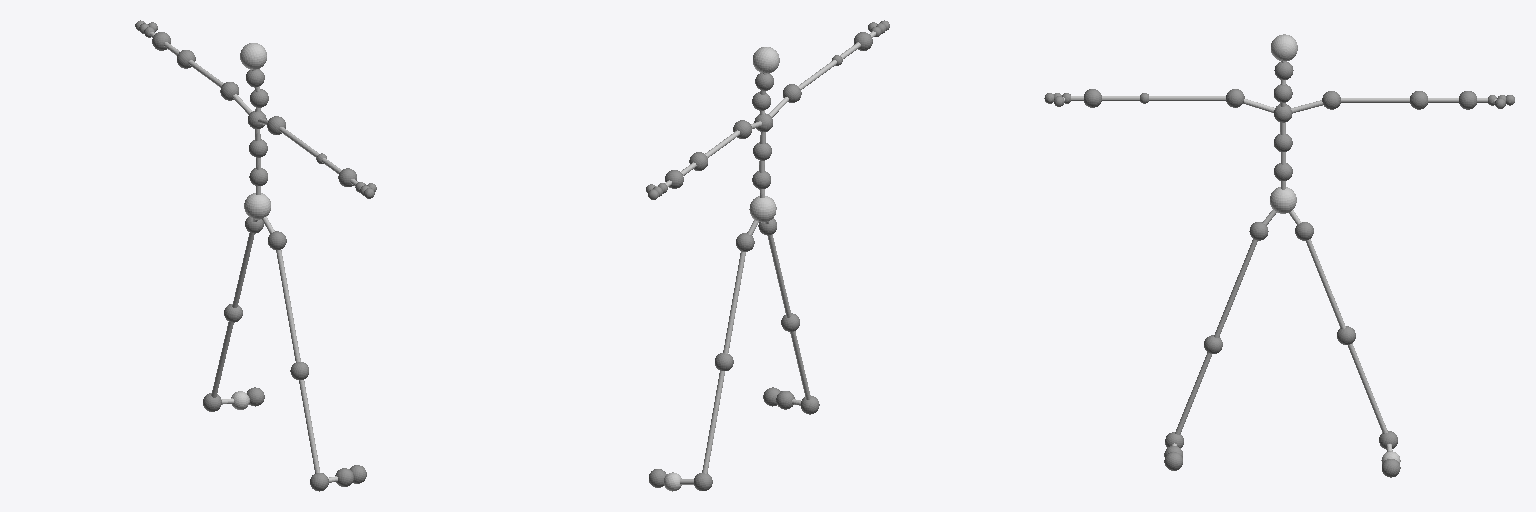
--- Render facts (derived) ---
Views: 3 orthographic renders of the robot side by side, from view 1: azimuth 30°, elevation 25°; view 2: azimuth 150°, elevation 25°; view 3: azimuth 270°, elevation 25°.
Robot: bone — 90 links, 89 joints (56 revolute, 33 fixed); root link root; default pose: all joints at 0.
Links seen in each view (by area): view 1: rfemur, headtop, root; view 2: headtop, root, ltiaba, lfemur; view 3: headtop, rfemur, root.
Link boxes in pixels (<box>): rfemur: <box>276,250,300,362</box>; headtop: <box>240,43,266,69</box>; root: <box>244,193,270,219</box>; headtop: <box>753,47,779,73</box>; root: <box>749,196,776,222</box>; ltiaba: <box>702,371,724,473</box>; lfemur: <box>723,251,745,353</box>; headtop: <box>1271,34,1297,61</box>; rfemur: <box>1214,239,1257,337</box>; root: <box>1270,187,1296,213</box>.
Bounding box of the posed robot: 0.3174 × 1.73 × 1.67 m (x, y, z).
Geometry: primitives only (box / cylinder / sphere), no mesh files.

robot.urdf — bone:
<robot name="bone">
  <mujoco>
    <compiler meshdir="meshes" discardvisual="false"/>
  </mujoco>

  <!-- <link name= "ww">
  </link> -->

  <link name="root">
    <visual>
      <origin xyz="0 0 0" rpy="0 0 0"/>
      <geometry>
        <sphere radius="0.05"/>
      </geometry>
      <material name="dark">
        <color rgba="0.8 0.8 0.8 1"/>
      </material>
    </visual>
  </link>

  <!-- <joint name="wwroot_joint" type="fixed">
    <origin xyz="0.03072072  0.07805085 -0.11095449" rpy="0 0 0"/>
    <parent link="ww"/>
    <child link="lhip"/>
  </joint> -->

  <link name="lhip">
    <visual>
      <origin xyz="-0.01536036  -0.03902543 0.05547724" rpy="2.9188902  -0.61303716  1.57079633"/>
      <geometry>
        <cylinder radius="0.01" length="0.13909213"/>
      </geometry>
      <material name="dark">
        <color rgba="0.8 0.8 0.8 1"/>
      </material>
    </visual>
  </link>

  <joint name="lhipjoint_joint" type="fixed">
    <origin xyz="0.03072072  0.07805085 -0.11095449" rpy="0 0 0"/>
    <parent link="root"/>
    <child link="lhip"/>
  </joint>

  <link name="lhip_sphere">
    <visual>
      <origin xyz="0.0 0.0 0.0" rpy="0 0 0"/>
        <geometry>
          <sphere radius="0.035"/>
        </geometry>
      <material name="dark">
        <color rgba="0.6 0.6 0.6 1"/>
      </material>
    </visual>
  </link>
  <joint name="lhip_sphere_joint" type="fixed">
    <origin xyz="0 0 0" rpy="0 0 0"/>
    <parent link="lhip"/>
    <child link="lhip_sphere"/>
  </joint>

  <link name="rhip">
    <visual>
      <origin xyz="-0.01536039 0.04437166 0.05547731" rpy="2.92864682 0.67462893 1.57079633"/>
      <geometry>
        <cylinder radius="0.01" length="0.14536192652000002"/> 
      </geometry>
      <material name="dark">
        <color rgba="0.8 0.8 0.8 1"/>
      </material>
    </visual>
  </link>
  <joint name="rhipjoint_joint" type="fixed">
    <origin xyz="0.03072079 -0.08874331 -0.11095461" rpy="0 0 0"/>
    <parent link="root"/>
    <child link="rhip"/>
  </joint>

  <link name="rhip_sphere">
    <visual>
      <origin xyz="0.0 0.0 0.0" rpy="0 0 0"/>
        <geometry>
          <sphere radius="0.035"/>
        </geometry>
      <material name="dark">
        <color rgba="0.6 0.6 0.6 1"/>
      </material>
    </visual>
  </link>
  <joint name="rhip_sphere_joint" type="fixed">
    <origin xyz="0 0 0" rpy="0 0 0"/>
    <parent link="rhip"/>
    <child link="rhip_sphere"/>
  </joint>
  <!-- *******************left leg******************* -->

  <link name="lfemur_1">
  </link>
  <link name="lfemur_2">
  </link>
  <link name="lfemur">
    <visual>
      <origin xyz="-5.93592863e-08 -2.24521883e-01  0.00000000e+00" rpy="1.57079633e+00 -0.00000000e+00 -2.64380850e-07"/>
      <geometry>
        <cylinder radius="0.01" length="0.44904362864"/>
      </geometry>
      <material name="dark">
        <color rgba="0.8 0.8 0.8 1"/>
      </material>
    </visual>
  </link>

  <joint name="left_hip_joint_z" type="revolute">
    <origin xyz="0 0 0" rpy="1.57079633 -0.34906585  1.57079633"/>
    <parent link="lhip"/>
    <child link="lfemur_1"/>
    <axis xyz="0 0 1"/>
    <limit lower="-2.79252444" upper="0.34906556" effort="88" velocity="32"/>
  </joint>

  <joint name="left_hip_joint_y" type="revolute">
    <origin xyz="0 0 0" rpy="0 0 0"/>
    <parent link="lfemur_1"/>
    <child link="lfemur_2"/>
    <axis xyz="0 1 0"/>
    <limit lower="-1.22172944" upper="1.22172944" effort="88" velocity="32"/>
  </joint>

  <joint name="left_hip_joint_x" type="revolute">
    <origin xyz="0 0 0" rpy="0 0 0"/>
    <parent link="lfemur_2"/>
    <child link="lfemur"/>
    <axis xyz="1 0 0"/>
    <limit lower="-1.04719667" upper="1.22172944" effort="88" velocity="32"/>
  </joint>

  <link name="ltiaba">
    <visual>
      <origin xyz="-5.95655183e-08 -2.25301940e-01  0.00000000e+00" rpy="1.57079633e+00 -0.00000000e+00 -2.64380850e-07"/>
      <geometry>
        <cylinder radius="0.01" length="0.4506037408"/>
      </geometry>
      <material name="dark">
        <color rgba="0.8 0.8 0.8 1"/>
      </material>
    </visual>
  </link>

  <joint name="left_knee_joint" type="revolute">
    <origin xyz="-1.18718573e-07 -4.49043767e-01  0.00000000e+00" rpy="0 0 0"/>
    <parent link="lfemur"/>
    <child link="ltiaba"/>
    <axis xyz="1 0 0"/>
    <limit lower="-0.17453278" upper="2.967" effort="88" velocity="32"/>
  </joint>

  <link name="ltibia_sphere">
    <visual>
      <origin xyz="0.0 0.0 0.0" rpy="0 0 0"/>
        <geometry>
          <sphere radius="0.035"/>
        </geometry>
      <material name="dark">
        <color rgba="0.6 0.6 0.6 1"/>
      </material>
    </visual>
  </link>
  <joint name="ltibia_sphere_joint" type="fixed">
    <origin xyz="0 0 0" rpy="0 0 0"/>
    <parent link="ltiaba"/>
    <child link="ltibia_sphere"/>
  </joint>

  <link name="lfoot_1">
  </link>
   <link name="lfoot">
    <visual>
      <origin xyz="6.64480645e-09 -6.15325855e-02 -1.33260259e-02" rpy="-2.14448389  1.17017283  2.60484501"/>
      <geometry>
        <cylinder radius="0.01" length="0.1259180974"/>
      </geometry>
      <material name="dark">
        <color rgba="0.8 0.8 0.8 1"/>
      </material>
    </visual>
  </link>

  <joint name="lfoot_joint_z" type="revolute">
    <origin xyz="-1.19131037e-07 -4.50603879e-01  0.00000000e+00" rpy="-1.57079633e+00  1.33142791e-17  0.00000000e+00"/>
    <parent link="ltiaba"/>
    <child link="lfoot_1"/>
    <axis xyz="0 0 1"/>
    <limit lower="-0.7853975" upper="1.570795" effort="88" velocity="32"/>
  </joint>

  <joint name="lfoot_joint_x" type="revolute">
    <origin xyz="0.0 0 0" rpy="0 0 0"/>
    <parent link="lfoot_1"/>
    <child link="lfoot"/>
    <axis xyz="1 0 0"/>
    <limit lower="-1.22172944" upper="0.34906556" effort="88" velocity="32"/>
  </joint>

  <link name="lfoot_sphere">
    <visual>
      <origin xyz="0.0 0.0 0.0" rpy="0 0 0"/>
        <geometry>
          <sphere radius="0.035"/>
        </geometry>
      <material name="dark">
        <color rgba="0.6 0.6 0.6 1"/>
      </material>
    </visual>
  </link>
  <joint name="lfoot_sphere_joint" type="fixed">
    <origin xyz="0 0 0" rpy="0 0 0"/>
    <parent link="lfoot"/>
    <child link="lfoot_sphere"/>
  </joint>

  <link name="ltoe">
    <visual>
      <origin xyz="6.98164928e-16 -3.16444819e-02 -1.42131187e-12" rpy="-1.57079633  1.22173048  3.14159265"/>
      <geometry>
        <cylinder radius="0.01" length="0.06328896388000001"/>
      </geometry>
      <material name="dark">
        <color rgba="0.8 0.8 0.8 1"/>
      </material>
    </visual>
  </link>

  <joint name="ltoe_joint" type="revolute">
    <origin xyz="1.32896129e-08 -1.23065171e-01 -2.66520518e-02" rpy="-1.23259516e-32  8.15264464e-34 -1.54074396e-33"/>
    <parent link="lfoot"/>
    <child link="ltoe"/>
    <axis xyz="1 0 0"/>
    <limit lower="-1.570795" upper="0.34906556" effort="88" velocity="32"/>
  </joint>

  <link name="ltoes_sphere">
    <visual>
      <origin xyz="0.0 0.0 0.0" rpy="0 0 0"/>
        <geometry>
          <sphere radius="0.035"/>
        </geometry>
      <material name="dark">
        <color rgba="0.8 0.8 0.8 1"/>
      </material>
    </visual>
  </link>
  <joint name="ltoes_sphere_joint" type="fixed">
    <origin xyz="0 0 0" rpy="0 0 0"/>
    <parent link="ltoe"/>
    <child link="ltoes_sphere"/>
  </joint>

  <link name="ltoe_top">
    <visual>
      <origin xyz="0.0 0 0" rpy="0 0 0"/>
        <geometry>
          <sphere radius="0.035"/>
        </geometry>
      <material name="dark">
        <color rgba="0.6 0.6 0.6 1"/>
      </material>
    </visual>
  </link>

  <joint name="ltoe_top_joint" type="fixed">
    <origin xyz="1.39632986e-15 -6.32889639e-02 -2.84262374e-12" rpy="0 0 0"/>
    <parent link="ltoe"/>
    <child link="ltoe_top"/>
  </joint>

  <!-- *******************right leg******************* -->

  <link name="rfemur_1">
  </link>
  <link name="rfemur_2">
  </link>
  <link name="rfemur">
    <visual>
      <origin xyz="6.45599279e-08 -2.44192906e-01  0.00000000e+00" rpy="1.57079633e+00 -0.00000000e+00  2.64380850e-07"/>
      <geometry>
        <cylinder radius="0.01" length="0.48838566108000003"/>
      </geometry>
      <material name="dark">
        <color rgba="0.8 0.8 0.8 1"/>
      </material>
    </visual>
  </link>

  <joint name="right_hip_joint_z" type="revolute">
    <origin xyz="0 0 0" rpy="1.57079633 0.34906585 1.57079633"/>
    <parent link="rhip"/>
    <child link="rfemur_1"/>
    <axis xyz="0 0 1"/>
    <limit lower="-2.79252444" upper="0.34906556" effort="88" velocity="32"/>
  </joint>

  <joint name="right_hip_joint_y" type="revolute">
    <origin xyz="0 0 0" rpy="0 0 0"/>
    <parent link="rfemur_1"/>
    <child link="rfemur_2"/>
    <axis xyz="0 1 0"/>
    <limit lower="-1.22172944" upper="1.22172944" effort="88" velocity="32"/>
  </joint>

  <joint name="right_hip_joint_x" type="revolute">
    <origin xyz="0 0 0" rpy="0 0 0"/>
    <parent link="rfemur_2"/>
    <child link="rfemur"/>
    <axis xyz="1 0 0"/>
    <limit lower="-1.22172944" upper="1.04719667" effort="88" velocity="32"/>
  </joint>

  <link name="rtiaba">
    <visual>
      <origin xyz="-2.11832793e-07 -2.08223831e-01  0.00000000e+00" rpy="1.57079633e+00 -0.00000000e+00 -1.01733213e-06"/>
      <geometry>
        <cylinder radius="0.01" length="0.41644778308"/>
      </geometry>
      <material name="dark">
        <color rgba="0.8 0.8 0.8 1"/>
      </material>
    </visual>
  </link>

  <joint name="right_knee_joint" type="revolute">
    <origin xyz="1.29119856e-07 -4.88385811e-01  0.00000000e+00" rpy="0 0 0"/>
    <parent link="rfemur"/>
    <child link="rtiaba"/>
    <axis xyz="1 0 0"/>
    <limit lower="-0.17453278" upper="2.96705722" effort="88" velocity="32"/>
  </joint>

  <link name="rtiaba_sphere">
    <visual>
      <origin xyz="0.0 0.0 0.0" rpy="0 0 0"/>
        <geometry>
          <sphere radius="0.035"/>
        </geometry>
      <material name="dark">
        <color rgba="0.6 0.6 0.6 1"/>
      </material>
    </visual>
  </link>
  <joint name="rtiaba_sphere_joint" type="fixed">
    <origin xyz="0 0 0" rpy="0 0 0"/>
    <parent link="rtiaba"/>
    <child link="rtiaba_sphere"/>
  </joint>

  <link name="rfoot_1">
  </link>
   <link name="rfoot">
    <visual>
      <origin xyz="-0.00020512 -0.05268696 -0.00312934" rpy="1.74309564 1.21768444 0.15796599"/>
      <geometry>
        <cylinder radius="0.01" length="0.10556043992"/>
      </geometry>
      <material name="dark">
        <color rgba="0.8 0.8 0.8 1"/>
      </material>
    </visual>
  </link>

  <joint name="rfoot_joint_z" type="revolute">
    <origin xyz="-4.23665586e-07 -4.16447662e-01  0.00000000e+00" rpy="-1.57079633e+00 -1.33142791e-17  0.00000000e+00"/>
    <parent link="rtiaba"/>
    <child link="rfoot_1"/>
    <axis xyz="0 0 1"/>
    <limit lower="-0.7853975" upper="1.570795" effort="88" velocity="32"/>
  </joint>

  <joint name="rfoot_joint_x" type="revolute">
    <origin xyz="0.0 0 0" rpy="0 0 0"/>
    <parent link="rfoot_1"/>
    <child link="rfoot"/>
    <axis xyz="1 0 0"/>
    <limit lower="-0.34906556" upper="1.22172944" effort="88" velocity="32"/>
  </joint>

  <link name="rfoot_sphere">
    <visual>
      <origin xyz="0.0 0.0 0.0" rpy="0 0 0"/>
        <geometry>
          <sphere radius="0.035"/>
        </geometry>
      <material name="dark">
        <color rgba="0.6 0.6 0.6 1"/>
      </material>
    </visual>
  </link>
  <joint name="rfoot_sphere_joint" type="fixed">
    <origin xyz="0 0 0" rpy="0 0 0"/>
    <parent link="rfoot"/>
    <child link="rfoot_sphere"/>
  </joint>

  <link name="rtoe">
    <visual>
      <origin xyz="4.14994319e-16 -2.68551521e-02 -1.20706702e-12" rpy="1.57079633e+00 1.22173048e+00 1.23507191e-10"/>
      <geometry>
        <cylinder radius="0.01" length="0.053710304192"/>
      </geometry>
      <material name="dark">
        <color rgba="0.8 0.8 0.8 1"/>
      </material>
    </visual>
  </link>

  <joint name="rtoe_joint" type="revolute">
    <origin xyz="-0.00041025 -0.10537391 -0.00625868" rpy="-1.23259516e-32 -8.15264464e-34  1.54074396e-33"/>
    <parent link="rfoot"/>
    <child link="rtoe"/>
    <axis xyz="1 0 0"/>
    <limit lower="-1.570795" upper="0.34906556" effort="88" velocity="32"/>
  </joint>

   <link name="rtoes_sphere">
    <visual>
      <origin xyz="0.0 0.0 0.0" rpy="0 0 0"/>
        <geometry>
          <sphere radius="0.035"/>
        </geometry>
      <material name="dark">
        <color rgba="0.6 0.6 0.6 1"/>
      </material>
    </visual>
  </link>
  <joint name="rtoes_sphere_joint" type="fixed">
    <origin xyz="0 0 0" rpy="0 0 0"/>
    <parent link="rtoe"/>
    <child link="rtoes_sphere"/>
  </joint>

  <link name="rtoe_top">
    <visual>
      <origin xyz="0.0 0 0" rpy="0 0 0"/>
        <geometry>
          <sphere radius="0.035"/>
        </geometry>
      <material name="dark">
        <color rgba="0.6 0.6 0.6 1"/>
      </material>
    </visual>
  </link>

  <joint name="rtoe_top_joint" type="fixed">
    <origin xyz="8.29988637e-16 -5.37103042e-02 -2.41413405e-12" rpy="0 0 0"/>
    <parent link="rtoe"/>
    <child link="rtoe_top"/>
    <axis xyz="1 0 0"/>
    <limit lower="-2.5307" upper="2.8798" effort="88" velocity="32"/>
  </joint>

  <!-- 腰部 -->
  <link name="lowerback_1">
  </link>
  <link name="lowerback_2">
  </link>
  <link name="lowerback">
    <visual>
      <origin xyz="0.00018868 0.05852319 0.00256924" rpy="1.52692357 -0.   3.13836866"/>
        <geometry>
          <cylinder radius="0.01" length="0.11715968192000001"/>
        </geometry>
      <material name="dark">
        <color rgba="0.8 0.8 0.8 1"/>
      </material>
    </visual>
  </link>

  <joint name="lowerback_joint_z" type="revolute">
    <origin xyz="0 0 0" rpy="1.57079633 -0.  1.57079633"/>
    <parent link="root"/>
    <child link="lowerback_1"/>
    <axis xyz="0 0 1"/>
    <limit lower="-0.34906556" upper="0.7853975" effort="88" velocity="32"/>
  </joint>

  <joint name="lowerback_joint_y" type="revolute">
    <origin xyz="0 0 0" rpy="0 0 0"/>
    <parent link="lowerback_1"/>
    <child link="lowerback_2"/>
    <axis xyz="0 1 0"/>
    <limit lower="-0.52359833" upper="0.52359833" effort="88" velocity="32"/>
  </joint>

  <joint name="lowerback_joint_x" type="revolute">
    <origin xyz="0 0 0" rpy="0 0 0"/>
    <parent link="lowerback_2"/>
    <child link="lowerback"/>
    <axis xyz="1 0 0"/>
    <limit lower="-0.52359833" upper="0.52359833" effort="88" velocity="32"/>
  </joint>

  <link name="upperback_1">
  </link>
  <link name="upperback_2">
  </link>
  <link name="upperback">
    <visual>
      <origin xyz="-0.00018739  0.05819312 -0.00133533" rpy="1.59373863 -0.     -3.13837248"/>
        <geometry>
          <cylinder radius="0.01" length="0.11641744332000001"/>
        </geometry>
      <material name="dark">
        <color rgba="0.8 0.8 0.8 1"/>
      </material>
    </visual>
  </link>

  <joint name="upperback_joint_z" type="revolute">
    <origin xyz="0.00037736 0.11704639 0.00513847" rpy="0 0 0"/>
    <parent link="lowerback"/>
    <child link="upperback_1"/>
    <axis xyz="0 0 1"/>
    <limit lower="-0.34906556" upper="0.7853975" effort="88" velocity="32"/>
  </joint>

  <joint name="upperback_joint_y" type="revolute">
    <origin xyz="0 0 0" rpy="0 0 0"/>
    <parent link="upperback_1"/>
    <child link="upperback_2"/>
    <axis xyz="0 1 0"/>
    <limit lower="-0.52359833" upper="0.52359833" effort="88" velocity="32"/>
  </joint>

  <joint name="upperback_joint_x" type="revolute">
    <origin xyz="0 0 0" rpy="0 0 0"/>
    <parent link="upperback_2"/>
    <child link="upperback"/>
    <axis xyz="1 0 0"/>
    <limit lower="-0.52359833" upper="0.52359833" effort="88" velocity="32"/>
  </joint>

  <link name="upperback_sphere">
    <visual>
      <origin xyz="0.0 0.0 0.0" rpy="0 0 0"/>
        <geometry>
          <sphere radius="0.035"/>
        </geometry>
      <material name="dark">
        <color rgba="0.6 0.6 0.6 1"/>
      </material>
    </visual>
  </link>
  <joint name="upperback_sphere_joint" type="fixed">
    <origin xyz="0 0 0" rpy="0 0 0"/>
    <parent link="upperback"/>
    <child link="upperback_sphere"/>
  </joint>

  <link name="thorax_1">
  </link>
  <link name="thorax_2">
  </link>
  <link name="thorax">
    <visual>
      <origin xyz="-0.00031399  0.05835144 -0.00265145" rpy="1.61620372 -0.         -3.13621171"/>
        <geometry>
          <cylinder radius="0.01" length="0.116824969"/>
        </geometry>
      <material name="dark">
        <color rgba="0.8 0.8 0.8 1"/>
      </material>
    </visual>
  </link>

  <joint name="thorax_joint_z" type="revolute">
    <origin xyz="-0.00037479  0.11638624 -0.00267065" rpy="0 0 0"/>
    <parent link="upperback"/>
    <child link="thorax_1"/>
    <axis xyz="0 0 1"/>
    <limit lower="-0.34906556" upper="0.7853975" effort="88" velocity="32"/>
  </joint>

  <joint name="thorax_joint_y" type="revolute">
    <origin xyz="0 0 0" rpy="0 0 0"/>
    <parent link="thorax_1"/>
    <child link="thorax_2"/>
    <axis xyz="0 1 0"/>
    <limit lower="-0.52359833" upper="0.52359833" effort="88" velocity="32"/>
  </joint>

  <joint name="thorax_joint_x" type="revolute">
    <origin xyz="0 0 0" rpy="0 0 0"/>
    <parent link="thorax_2"/>
    <child link="thorax"/>
    <axis xyz="1 0 0"/>
    <limit lower="-0.52359833" upper="0.52359833" effort="88" velocity="32"/>
  </joint>

  <link name="thorax_sphere">
    <visual>
      <origin xyz="0.0 0.0 0.0" rpy="0 0 0"/>
        <geometry>
          <sphere radius="0.035"/>
        </geometry>
      <material name="dark">
        <color rgba="0.6 0.6 0.6 1"/>
      </material>
    </visual>
  </link>
  <joint name="thorax_sphere_joint" type="fixed">
    <origin xyz="0 0 0" rpy="0 0 0"/>
    <parent link="thorax"/>
    <child link="thorax_sphere"/>
  </joint>

  <link name="lowerneck_1">
  </link>
  <link name="lowerneck_2">
  </link>
  <link name="lowerneck">
    <visual>
      <origin xyz="-5.79107804e-06  4.23182475e-02  4.61289760e-03" rpy="1.46222008 -0.         -3.14145581"/>
        <geometry>
          <cylinder radius="0.01" length="0.08513787184"/>
        </geometry>
      <material name="dark">
        <color rgba="0.8 0.8 0.8 1"/>
      </material>
    </visual>
  </link>

  <joint name="lowerneck_joint_z" type="revolute">
    <origin xyz="-0.00062798  0.11670289 -0.0053029 " rpy="0 0 0"/>
    <parent link="thorax"/>
    <child link="lowerneck_1"/>
    <axis xyz="0 0 1"/>
    <limit lower="-0.34906556" upper="0.7853975" effort="88" velocity="32"/>
  </joint>

  <joint name="lowerneck_joint_y" type="revolute">
    <origin xyz="0 0 0" rpy="0 0 0"/>
    <parent link="lowerneck_1"/>
    <child link="lowerneck_2"/>
    <axis xyz="0 1 0"/>
    <limit lower="-0.52359833" upper="0.52359833" effort="88" velocity="32"/>
  </joint>

  <joint name="lowerneck_joint_x" type="revolute">
    <origin xyz="0 0 0" rpy="0 0 0"/>
    <parent link="lowerneck_2"/>
    <child link="lowerneck"/>
    <axis xyz="1 0 0"/>
    <limit lower="-0.52359833" upper="0.52359833" effort="88" velocity="32"/>
  </joint>

  <link name="lowerneck_sphere">
    <visual>
      <origin xyz="0.0 0.0 0.0" rpy="0 0 0"/>
        <geometry>
          <sphere radius="0.035"/>
        </geometry>
      <material name="dark">
        <color rgba="0.6 0.6 0.6 1"/>
      </material>
    </visual>
  </link>
  <joint name="lowerneck_sphere_joint" type="fixed">
    <origin xyz="0 0 0" rpy="0 0 0"/>
    <parent link="lowerneck"/>
    <child link="lowerneck_sphere"/>
  </joint>

  <link name="upperneck_1">
  </link>
  <link name="upperneck_2">
  </link>
  <link name="upperneck">
    <visual>
      <origin xyz="0.00171578  0.04249297 -0.0075359" rpy="1.74617594 -0.  3.10123664"/>
        <geometry>
          <cylinder radius="0.01" length="0.08638020428"/>
        </geometry>
      <material name="dark">
        <color rgba="0.8 0.8 0.8 1"/>
      </material>
    </visual>
  </link>

  <joint name="upperneck_joint_z" type="revolute">
    <origin xyz="-1.15821561e-05  8.46364949e-02  9.22579521e-03" rpy="0 0 0"/>
    <parent link="lowerneck"/>
    <child link="upperneck_1"/>
    <axis xyz="0 0 1"/>
    <limit lower="-0.34906556" upper="0.7853975" effort="88" velocity="32"/>
  </joint>

  <joint name="upperneck_joint_y" type="revolute">
    <origin xyz="0 0 0" rpy="0 0 0"/>
    <parent link="upperneck_1"/>
    <child link="upperneck_2"/>
    <axis xyz="0 1 0"/>
    <limit lower="-0.52359833" upper="0.52359833" effort="88" velocity="32"/>
  </joint>

  <joint name="upperneck_joint_x" type="revolute">
    <origin xyz="0 0 0" rpy="0 0 0"/>
    <parent link="upperneck_2"/>
    <child link="upperneck"/>
    <axis xyz="1 0 0"/>
    <limit lower="-0.52359833" upper="0.52359833" effort="88" velocity="32"/>
  </joint>

  <link name="upperneck_sphere">
    <visual>
      <origin xyz="0.0 0.0 0.0" rpy="0 0 0"/>
        <geometry>
          <sphere radius="0.035"/>
        </geometry>
      <material name="dark">
        <color rgba="0.6 0.6 0.6 1"/>
      </material>
    </visual>
  </link>
  <joint name="upperneck_sphere_joint" type="fixed">
    <origin xyz="0 0 0" rpy="0 0 0"/>
    <parent link="upperneck"/>
    <child link="upperneck_sphere"/>
  </joint>

  <link name="head_1">
  </link>
  <link name="head_2">
  </link>
  <link name="head">
    <visual>
      <origin xyz="0.00048713  0.04415899 -0.00334543" rpy="1.64640617 -0.   3.13056181"/>
        <geometry>
          <cylinder radius="0.01" length="0.08857644032"/>
        </geometry>
      <material name="dark">
        <color rgba="0.8 0.8 0.8 1"/>
      </material>
    </visual>
  </link>

  <joint name="head_joint_z" type="revolute">
    <origin xyz="0.00343156  0.08498594 -0.01507179" rpy="0 0 0"/>
    <parent link="upperneck"/>
    <child link="head_1"/>
    <axis xyz="0 0 1"/>
    <limit lower="-0.34906556" upper="0.7853975" effort="88" velocity="32"/>
  </joint>

  <joint name="head_joint_y" type="revolute">
    <origin xyz="0 0 0" rpy="0 0 0"/>
    <parent link="head_1"/>
    <child link="head_2"/>
    <axis xyz="0 1 0"/>
    <limit lower="-0.52359833" upper="0.52359833" effort="88" velocity="32"/>
  </joint>

  <joint name="head_joint_x" type="revolute">
    <origin xyz="0 0 0" rpy="0 0 0"/>
    <parent link="head_2"/>
    <child link="head"/>
    <axis xyz="1 0 0"/>
    <limit lower="-0.52359833" upper="0.52359833" effort="88" velocity="32"/>
  </joint>

  <link name="head_sphere">
    <visual>
      <origin xyz="0.0 0.0 0.0" rpy="0 0 0"/>
        <geometry>
          <sphere radius="0.035"/>
        </geometry>
      <material name="dark">
        <color rgba="0.6 0.6 0.6 1"/>
      </material>
    </visual>
  </link>
  <joint name="head_sphere_joint" type="fixed">
    <origin xyz="0 0 0" rpy="0 0 0"/>
    <parent link="head"/>
    <child link="head_sphere"/>
  </joint>

  <link name="headtop">
    <visual>
      <origin xyz="0.0 0 0.0" rpy="0 0 0"/>
        <geometry>
          <sphere radius="0.05"/>
        </geometry>
      <material name="dark">
        <color rgba="0.8 0.8 0.8 1"/>
      </material>
    </visual>
  </link>
  <joint name="headtop_joint_x" type="fixed">
    <origin xyz="0.00097426  0.08831797 -0.00669087" rpy="0 0 0"/>
    <parent link="head"/>
    <child link="headtop"/>
    <axis xyz="1 0 0"/>
    <limit lower="-2.5307" upper="2.8798" effort="88" velocity="32"/>
  </joint>

  <!-- ***********************left arm************************ -->

  <link name="lclavicle_1">
  </link>
  <link name="lclavicle">
    <visual>
      <origin xyz="0.08889745  0.023405   -0.00634644" rpy="1.63972489 -0.          1.82823509"/>
        <geometry>
          <cylinder radius="0.01" length="0.18429135332"/>
        </geometry>
      <material name="dark">
        <color rgba="0.8 0.8 0.8 1"/>
      </material>
    </visual>
  </link>

  <joint name="lclavicle_joint_z" type="revolute">
    <origin xyz="0 0 0" rpy="0 0 0"/>
    <parent link="lowerneck"/>
    <child link="lclavicle_1"/>
    <axis xyz="0 0 1"/>
    <limit lower="-0.34906556" upper="0.17453278" effort="88" velocity="32"/>
  </joint>

  <joint name="lclavicle_joint_y" type="revolute">
    <origin xyz="0 0 0" rpy="0 0 0"/>
    <parent link="lclavicle_1"/>
    <child link="lclavicle"/>
    <axis xyz="0 1 0"/>
    <limit lower=" 0.0" upper="0.34906556" effort="88" velocity="32"/>
  </joint>


  <link name="lhumerus_1">
  </link>
  <link name="lhumerus_2">
  </link>
  <link name="lhumerus">
    <visual>
      <origin xyz="6.23500815e-12 -1.60367564e-01  3.59976400e-12" rpy="-1.57079633  0.52359878 -3.14159265"/>
        <geometry>
          <cylinder radius="0.01" length="0.32073512784"/>
        </geometry>
      <material name="dark">
        <color rgba="0.8 0.8 0.8 1"/>
      </material>
    </visual>
  </link>

  <joint name="lshoulder_joint_z" type="revolute">
    <origin xyz="0.1777949   0.04681  -0.01269288" rpy="3.14159265 -0.52359878 -1.57079633 "/>
    <parent link="lclavicle"/>
    <child link="lhumerus_1"/>
    <axis xyz="0 0 1"/>
    <limit lower="-1.04719667" upper="1.570795" effort="88" velocity="32"/>
  </joint>

  <joint name="lshoulder_joint_y" type="revolute">
    <origin xyz="0 0 0" rpy="0 0 0"/>
    <parent link="lhumerus_1"/>
    <child link="lhumerus_2"/>
    <axis xyz="0 1 0"/>
    <limit lower="-1.570795" upper="1.570795" effort="88" velocity="32"/>
  </joint>

  <joint name="lshoulder_joint_x" type="revolute">
    <origin xyz="0 0 0" rpy="0 0 0"/>
    <parent link="lhumerus_2"/>
    <child link="lhumerus"/>
    <axis xyz="1 0 0"/>
    <limit lower="-1.570795" upper="1.570795" effort="88" velocity="32"/>
  </joint>

  <link name="lhumerus_sphere">
    <visual>
      <origin xyz="0.0 0.0 0.0" rpy="0 0 0"/>
        <geometry>
          <sphere radius="0.035"/>
        </geometry>
      <material name="dark">
        <color rgba="0.6 0.6 0.6 1"/>
      </material>
    </visual>
  </link>
  <joint name="lhumerus_sphere_joint" type="fixed">
    <origin xyz="0 0 0" rpy="0 0 0"/>
    <parent link="lhumerus"/>
    <child link="lhumerus_sphere"/>
  </joint>

  <link name="lradius">
    <visual>
      <origin xyz="3.47964924e-12 -8.94953486e-02  2.00896547e-12" rpy="-1.57079633  0.52359878 -3.14159265"/>
        <geometry>
          <cylinder radius="0.01" length="0.17899069728"/>
        </geometry>
      <material name="dark">
        <color rgba="0.8 0.8 0.8 1"/>
      </material>
    </visual>
  </link>

  <joint name="left_elbow_joint" type="revolute">
    <origin xyz=" 1.24700163e-11 -3.20735128e-01  7.19952799e-12" rpy="-1.96289465e-33  6.29482353e-17  6.43857640e-33"/>
    <parent link="lhumerus"/>
    <child link="lradius"/>
    <axis xyz="1 0 0"/>
    <limit lower="-0.17453278" upper="2.96705722" effort="88" velocity="32"/>
  </joint>

  <link name="lradius_sphere">
    <visual>
      <origin xyz="0.0 0.0 0.0" rpy="0 0 0"/>
        <geometry>
          <sphere radius="0.035"/>
        </geometry>
      <material name="dark">
        <color rgba="0.6 0.6 0.6 1"/>
      </material>
    </visual>
  </link>
  <joint name="lradius_sphere_joint" type="fixed">
    <origin xyz="0 0 0" rpy="0 0 0"/>
    <parent link="lradius"/>
    <child link="lradius_sphere"/>
  </joint>

  <link name="lwrist">
    <visual>
      <origin xyz="-8.98144624e-28 -4.47476743e-02 -2.00923866e-12" rpy="3.14159129 -1.57079633 -1.57079496"/>
        <geometry>
          <cylinder radius="0.01" length="0.08949534864"/>
        </geometry>
      <material name="dark">
        <color rgba="0.8 0.8 0.8 1"/>
      </material>
    </visual>
  </link>

  <joint name="lwrist_joint" type="revolute">
    <origin xyz="6.95929849e-12 -1.78990697e-01  4.01793093e-12" rpy="3.14159265 -1.04719755 -3.14159265"/>
    <parent link="lradius"/>
    <child link="lwrist"/>
    <axis xyz="0 1 0"/>
    <limit lower="-3.14159" upper="0.0" effort="88" velocity="32"/>
  </joint>

  <link name="lwrist_sphere">
    <visual>
      <origin xyz="0.0 0.0 0.0" rpy="0 0 0"/>
        <geometry>
          <sphere radius="0.035"/>
        </geometry>
      <material name="dark">
        <color rgba="0.6 0.6 0.6 1"/>
      </material>
    </visual>
  </link>
  <joint name="lwrist_sphere_joint" type="fixed">
    <origin xyz="0 0 0" rpy="0 0 0"/>
    <parent link="lwrist"/>
    <child link="lwrist_sphere"/>
  </joint>

  <link name="lhand_1">
  </link>
  <link name="lhand">
    <visual>
      <origin xyz="-8.98144624e-28 -4.47476743e-02 -2.00924775e-12" rpy="3.14159129 -1.57079633 -1.57079496"/>
        <geometry>
          <cylinder radius="0.01" length="0.035711610804"/>
        </geometry>
      <material name="dark">
        <color rgba="0.8 0.8 0.8 1"/>
      </material>
    </visual>
  </link>
  <joint name="lhand_joint_z" type="revolute">
    <origin xyz="-1.93659802e-27 -8.94953486e-02 -4.01847733e-12" rpy="-2.03039388e-16 -5.72118873e-18 -8.99620658e-33"/>
    <parent link="lwrist"/>
    <child link="lhand_1"/>
    <axis xyz="0 0 1"/>
    <limit lower="-1.570795" upper="1.570795" effort="88" velocity="32"/>
  </joint>

  <joint name="lhand_joint_x" type="revolute">
    <origin xyz="0 0 0" rpy="0 0 0"/>
    <parent link="lhand_1"/>
    <child link="lhand"/>
    <axis xyz="1 0 0"/>
    <limit lower="-0.7853975" upper="0.7853975" effort="88" velocity="32"/>
  </joint>

  <link name="lhand_sphere">
    <visual>
      <origin xyz="0.0 0.0 0.0" rpy="0 0 0"/>
        <geometry>
          <sphere radius="0.02"/>
        </geometry>
      <material name="dark">
        <color rgba="0.6 0.6 0.6 1"/>
      </material>
    </visual>
  </link>
  <joint name="lhand_sphere_joint" type="fixed">
    <origin xyz="0 0 0" rpy="0 0 0"/>
    <parent link="lhand"/>
    <child link="lhand_sphere"/>
  </joint>

  <link name="lfingers">
    <visual>
      <origin xyz="-1.03701902e-27 -1.43957882e-02 -6.46228522e-13" rpy="3.14159129 -1.57079633 -1.57079496"/>
        <geometry>
          <cylinder radius="0.01" length="0.027452216728000002"/>
        </geometry>
      <material name="dark">
        <color rgba="0.8 0.8 0.8 1"/>
      </material>
    </visual>
  </link>
  <joint name="lfingers_joint" type="revolute">
    <origin xyz="-1.33543707e-27 -3.57116108e-02 -1.60457712e-12" rpy="-3.85817248e-16 -0.00000000e+00 -2.73691106e-48"/>
    <parent link="lhand"/>
    <child link="lfingers"/>
    <axis xyz="1 0 0"/>
    <limit lower="0.0" upper="1.570795" effort="88" velocity="32"/>
  </joint>

  <link name="lfingers_sphere">
    <visual>
      <origin xyz="0.0 0.0 0.0" rpy="0 0 0"/>
        <geometry>
          <sphere radius="0.02"/>
        </geometry>
      <material name="dark">
        <color rgba="0.6 0.6 0.6 1"/>
      </material>
    </visual>
  </link>
  <joint name="lfingers_sphere_joint" type="fixed">
    <origin xyz="0 0 0" rpy="0 0 0"/>
    <parent link="lfingers"/>
    <child link="lfingers_sphere"/>
  </joint>

  <link name="lfingers_top">
    <visual>
      <origin xyz="0.0 0.0 0.0" rpy="0 0 0"/>
        <geometry>
          <sphere radius="0.02"/>
        </geometry>
      <material name="dark">
        <color rgba="0.6 0.6 0.6 1"/>
      </material>
    </visual>
  </link>
  <joint name="lfingerstop_joint" type="fixed">
    <origin xyz="-2.07403804e-27 -2.87915764e-02 -1.29245704e-12" rpy="0 0 0"/>
    <parent link="lfingers"/>
    <child link="lfingers_top"/>
  </joint>

  <link name="lthumb_1">
  </link>
  <link name="lthumb">
    <visual>
      <origin xyz="1.73472348e-18 -2.06695734e-02 -1.31190722e-12" rpy=" 2.35619401 -1.57079633 -0.78539768"/>
        <geometry>
          <cylinder radius="0.01" length="0.041339134048000006"/>
        </geometry>
      <material name="dark">
        <color rgba="0.8 0.8 0.8 1"/>
      </material>
    </visual>
  </link>
  <joint name="lthumb_joint_z" type="revolute">
    <origin xyz="-1.93659802e-27 -8.94953486e-02 -4.01847733e-12" rpy="7.27159665e-17  8.99882495e-17 -7.85398163e-01"/>
    <parent link="lwrist"/>
    <child link="lthumb_1"/>
    <axis xyz="0 0 1"/>
    <limit lower="-0.7853975" upper="0.7853975" effort="88" velocity="32"/>
  </joint>
  <joint name="lthumb_joint_x" type="revolute">
    <origin xyz="0 0 0" rpy="0 0 0"/>
    <parent link="lthumb_1"/>
    <child link="lthumb"/>
    <axis xyz="1 0 0"/>
    <limit lower="-0.7853975" upper="0.7853975" effort="88" velocity="32"/>
  </joint>

  <link name="lthumbtop">
    <visual>
      <origin xyz="0.0 0.0 0.0" rpy="0 0 0"/>
        <geometry>
          <sphere radius="0.02"/>
        </geometry>
      <material name="dark">
        <color rgba="0.6 0.6 0.6 1"/>
      </material>
    </visual>
  </link>
  <joint name="lthumbtop_joint" type="fixed">
    <origin xyz="3.46944695e-18 -4.13391468e-02 -2.62381443e-12" rpy="0 0 0"/>
    <parent link="lthumb"/>
    <child link="lthumbtop"/>
    <axis xyz="0 0 1"/>
    <limit lower="-2.5307" upper="2.8798" effort="88" velocity="32"/>
  </joint>

  <!--********************* right arm *************************-->
  <link name="rclavicle_1">
  </link>
  <link name="rclavicle">
    <visual>
      <origin xyz="-0.08764947  0.02576068 -0.0094076" rpy=" 1.67341128 -0.         -1.85665273"/>
        <geometry>
          <cylinder radius="0.01" length="0.18367950036"/>
        </geometry>
      <material name="dark">
        <color rgba="0.8 0.8 0.8 1"/>
      </material>
    </visual>
  </link>

  <joint name="rclavicle_joint_z" type="revolute">
    <origin xyz="0 0 0" rpy="0 0 0"/>
    <parent link="lowerneck"/>
    <child link="rclavicle_1"/>
    <axis xyz="0 0 1"/>
    <limit lower="-0.17453278" upper="0.34906556" effort="88" velocity="32"/>
  </joint>

  <joint name="rclavicle_joint_y" type="revolute">
    <origin xyz="0 0 0" rpy="0 0 0"/>
    <parent link="rclavicle_1"/>
    <child link="rclavicle"/>
    <axis xyz="0 1 0"/>
    <limit lower="-0.34906556" upper="0.0" effort="88" velocity="32"/>
  </joint>

  <link name="rhumerus_1">
  </link>
  <link name="rhumerus_2">
  </link>
  <link name="rhumerus">
    <visual>
      <origin xyz="-6.44297378e-12 -1.65697006e-01  3.71983440e-12" rpy="-1.57079633 -0.52359878  3.14159265"/>
        <geometry>
          <cylinder radius="0.01" length="0.3313940128"/>
        </geometry>
      <material name="dark">
        <color rgba="0.8 0.8 0.8 1"/>
      </material>
    </visual>
  </link>
  <joint name="rshoulder_joint_z" type="revolute">
    <origin xyz="-0.17529894  0.05152137 -0.01881521" rpy="3.14159265 0.52359878 1.57079633"/>
    <parent link="rclavicle"/>
    <child link="rhumerus_1"/>
    <axis xyz="0 0 1"/>
    <limit lower="-1.570795" upper="1.04719667" effort="88" velocity="32"/>
  </joint>
  <joint name="rshoulder_joint_y" type="revolute">
    <origin xyz="0 0 0" rpy="0 0 0"/>
    <parent link="rhumerus_1"/>
    <child link="rhumerus_2"/>
    <axis xyz="0 1 0"/>
    <limit lower="-1.570795" upper="1.570795" effort="88" velocity="32"/>
  </joint>
  <joint name="rshoulder_joint_x" type="revolute">
    <origin xyz="0 0 0" rpy="0 0 0"/>
    <parent link="rhumerus_2"/>
    <child link="rhumerus"/>
    <axis xyz="1 0 0"/>
    <limit lower="-1.570795" upper="1.570795" effort="88" velocity="32"/>
  </joint>

   <link name="rhumerus_sphere">
    <visual>
      <origin xyz="0.0 0.0 0.0" rpy="0 0 0"/>
        <geometry>
          <sphere radius="0.035"/>
        </geometry>
      <material name="dark">
        <color rgba="0.6 0.6 0.6 1"/>
      </material>
    </visual>
  </link>
  <joint name="rhumerus_sphere_joint" type="fixed">
    <origin xyz="0 0 0" rpy="0 0 0"/>
    <parent link="rhumerus"/>
    <child link="rhumerus_sphere"/>
  </joint>


  <link name="rradius">
    <visual>
      <origin xyz="-3.70447404e-12 -9.52743676e-02  2.13876742e-12" rpy="-1.57079633 -0.52359878  3.14159265"/>
        <geometry>
          <cylinder radius="0.01" length="0.19054873516"/>
        </geometry>
      <material name="dark">
        <color rgba="0.8 0.8 0.8 1"/>
      </material>
    </visual>
  </link>
  <joint name="right_elbow_joint" type="revolute">
    <origin xyz="-1.28859476e-11 -3.31394013e-01  7.43966881e-12" rpy="-1.96289465e-33 -6.29482353e-17 -6.43857640e-33"/>
    <parent link="rhumerus"/>
    <child link="rradius"/>
    <axis xyz="1 0 0"/>
    <limit lower="-0.17453278" upper="2.96705722" effort="88" velocity="32"/>
  </joint>

   <link name="rradius_sphere">
    <visual>
      <origin xyz="0.0 0.0 0.0" rpy="0 0 0"/>
        <geometry>
          <sphere radius="0.02"/>
        </geometry>
      <material name="dark">
        <color rgba="0.6 0.6 0.6 1"/>
      </material>
    </visual>
  </link>
  <joint name="rradius_sphere_joint" type="fixed">
    <origin xyz="0 0 0" rpy="0 0 0"/>
    <parent link="rradius"/>
    <child link="rradius_sphere"/>
  </joint>

  <link name="rwrist">
    <visual>
      <origin xyz="9.56117042e-28 -4.76370427e-02 -2.13863271e-12" rpy="3.14159129 1.57079633 1.57079496"/>
        <geometry>
          <cylinder radius="0.01" length="0.09527408536"/>
        </geometry>
      <material name="dark">
        <color rgba="0.8 0.8 0.8 1"/>
      </material>
    </visual>
  </link>
  <joint name="rwrist_joint" type="revolute">
    <origin xyz="-7.40894808e-12 -1.90548735e-01  4.27753483e-12" rpy="3.14159265 1.04719755 3.14159265"/>
    <parent link="rradius"/>
    <child link="rwrist"/>
    <axis xyz="0 1 0"/>
    <limit lower="-3.14159" upper="0.0" effort="88" velocity="32"/>
  </joint>

  <link name="rwrist_sphere">
    <visual>
      <origin xyz="0.0 0.0 0.0" rpy="0 0 0"/>
        <geometry>
          <sphere radius="0.035"/>
        </geometry>
      <material name="dark">
        <color rgba="0.6 0.6 0.6 1"/>
      </material>
    </visual>
  </link>
  <joint name="rwrist_sphere_joint" type="fixed">
    <origin xyz="0 0 0" rpy="0 0 0"/>
    <parent link="rwrist"/>
    <child link="rwrist_sphere"/>
  </joint>

  <link name="rhand_1">
  </link>
  <link name="rhand">
    <visual>
      <origin xyz=" 6.36571796e-28 -1.70251191e-02 -7.63605951e-13" rpy="3.14159129 1.57079633 1.57079496"/>
        <geometry>
          <cylinder radius="0.01" length="0.034050238108"/>
        </geometry>
      <material name="dark">
        <color rgba="0.8 0.8 0.8 1"/>
      </material>
    </visual>
  </link>
  <joint name="rhand_joint_z" type="revolute">
    <origin xyz="1.91223408e-27 -9.52740854e-02 -4.27726542e-12" rpy="-2.03039388e-16 -0.00000000e+00  0.00000000e+00"/>
    <parent link="rwrist"/>
    <child link="rhand_1"/>
    <axis xyz="0 0 1"/>
    <limit lower="-1.570795" upper="1.570795" effort="88" velocity="32"/>
  </joint>
 <joint name="rhand_joint_x" type="revolute">
    <origin xyz="0 0 0" rpy="0 0 0"/>
    <parent link="rhand_1"/>
    <child link="rhand"/>
    <axis xyz="1 0 0"/>
    <limit lower="-0.7853975" upper="0.7853975" effort="88" velocity="32"/>
  </joint>

  <link name="rhand_sphere">
    <visual>
      <origin xyz="0.0 0.0 0.0" rpy="0 0 0"/>
        <geometry>
          <sphere radius="0.02"/>
        </geometry>
      <material name="dark">
        <color rgba="0.6 0.6 0.6 1"/>
      </material>
    </visual>
  </link>
  <joint name="rhand_sphere_joint" type="fixed">
    <origin xyz="0 0 0" rpy="0 0 0"/>
    <parent link="rhand"/>
    <child link="rhand_sphere"/>
  </joint>

  
  <link name="rfingers">
    <visual>
      <origin xyz=" 9.88873086e-28 -1.37261084e-02 -6.17723061e-13" rpy="3.14159129 1.57079633 1.57079497"/>
        <geometry>
          <cylinder radius="0.01" length="0.027452216728000002"/>
        </geometry>
      <material name="dark">
        <color rgba="0.8 0.8 0.8 1"/>
      </material>
    </visual>
  </link>
  <joint name="rfingers_joint" type="revolute">
    <origin xyz="1.27314359e-27 -3.40502381e-02 -1.52721190e-12" rpy="-3.85817248e-16 -0.00000000e+00  0.00000000e+00"/>
    <parent link="rhand"/>
    <child link="rfingers"/>
    <axis xyz="1 0 0"/>
    <limit lower="0.0" upper="1.570795" effort="88" velocity="32"/>
  </joint>

  <link name="rfingers_sphere">
    <visual>
      <origin xyz="0.0 0.0 0.0" rpy="0 0 0"/>
        <geometry>
          <sphere radius="0.02"/>
        </geometry>
      <material name="dark">
        <color rgba="0.6 0.6 0.6 1"/>
      </material>
    </visual>
  </link>
  <joint name="rfingers_sphere_joint" type="fixed">
    <origin xyz="0 0 0" rpy="0 0 0"/>
    <parent link="rfingers"/>
    <child link="rfingers_sphere"/>
  </joint>

  <link name="rfingers_top">
    <visual>
      <origin xyz="0.0 0.0 0.0" rpy="0 0 0"/>
        <geometry>
          <sphere radius="0.02"/>
        </geometry>
      <material name="dark">
        <color rgba="0.6 0.6 0.6 1"/>
      </material>
    </visual>
  </link>
  <joint name="rfingerstop_joint" type="fixed">
    <origin xyz="1.97774617e-27 -2.74522167e-02 -1.23544612e-12" rpy="0 0 0"/>
    <parent link="rfingers"/>
    <child link="rfingers_top"/>
  </joint>

  <link name="rthumb_1">
  </link>
  <link name="rthumb">
    <visual>
      <origin xyz="-3.46944695e-18 -1.97080214e-02 -1.25131262e-12" rpy="2.35619401 1.57079633 0.78539768"/>
        <geometry>
          <cylinder radius="0.01" length="0.039416030524"/>
        </geometry>
      <material name="dark">
        <color rgba="0.8 0.8 0.8 1"/>
      </material>
    </visual>
  </link>
  <joint name="rthumb_joint_z" type="revolute">
    <origin xyz="1.91223408e-27 -9.52740854e-02 -4.27726542e-12" rpy="6.86704751e-17 -9.40337408e-17  7.85398163e-01"/>
    <parent link="rwrist"/>
    <child link="rthumb_1"/>
    <axis xyz="0 0 1"/>
    <limit lower="-0.7853975" upper="0.7853975" effort="88" velocity="32"/>
  </joint>
  <joint name="rthumb_joint_x" type="revolute">
    <origin xyz="0 0 0" rpy="0 0 0"/>
    <parent link="rthumb_1"/>
    <child link="rthumb"/>
    <axis xyz="1 0 0"/>
    <limit lower="-0.7853975" upper="0.7853975" effort="88" velocity="32"/>
  </joint>

  <link name="rthumb_sphere">
    <visual>
      <origin xyz="0.0 0.0 0.0" rpy="0 0 0"/>
        <geometry>
          <sphere radius="0.02"/>
        </geometry>
      <material name="dark">
        <color rgba="0.6 0.6 0.6 1"/>
      </material>
    </visual>
  </link>
  <joint name="rthumb_sphere_joint" type="fixed">
    <origin xyz="0 0 0" rpy="0 0 0"/>
    <parent link="rthumb"/>
    <child link="rthumb_sphere"/>
  </joint>

  <link name="rthumb_top">
    <visual>
      <origin xyz="0.0 0.0 0.0" rpy="0 0 0"/>
        <geometry>
          <sphere radius="0.02"/>
        </geometry>
      <material name="dark">
        <color rgba="0.6 0.6 0.6 1"/>
      </material>
    </visual>
  </link>
  <joint name="rthumbtop_joint" type="fixed">
    <origin xyz="-6.93889390e-18 -3.94160427e-02 -2.50262523e-12" rpy="0 0 0"/>
    <parent link="rthumb"/>
    <child link="rthumb_top"/>
    <axis xyz="0 0 1"/>
    <limit lower="-2.5307" upper="2.8798" effort="88" velocity="32"/>
  </joint>

</robot>
